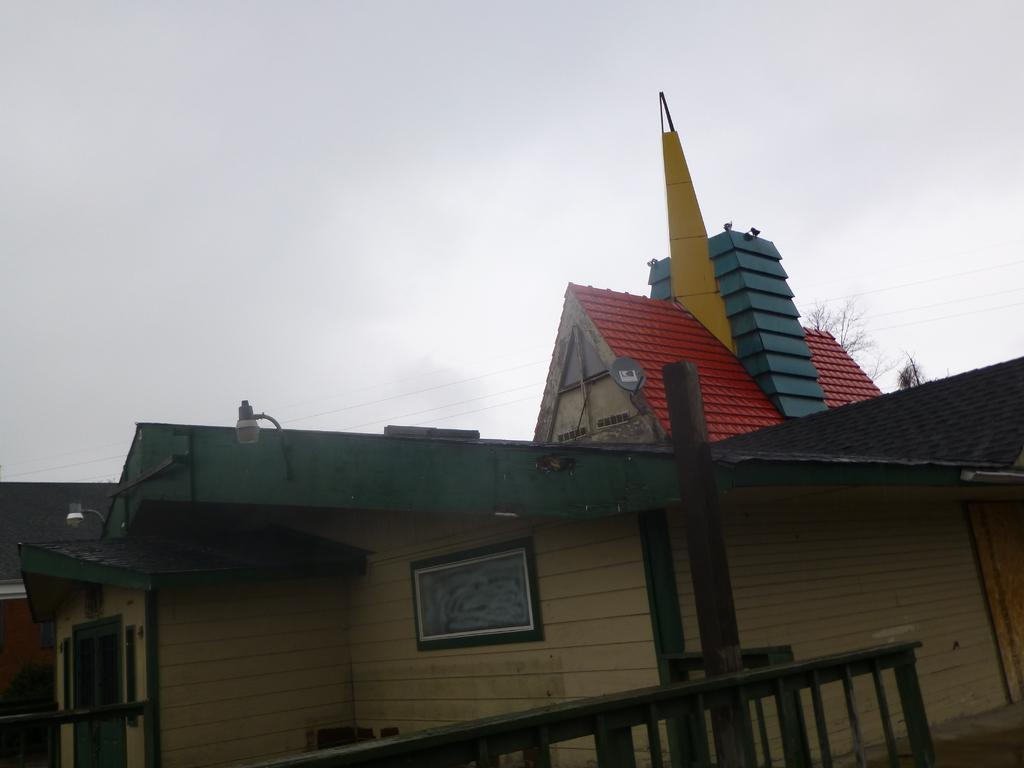door: (67, 623, 121, 768)
